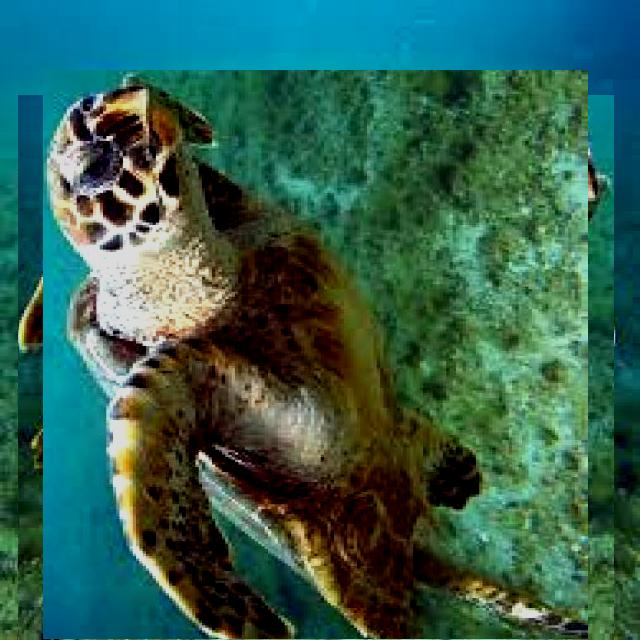Sea turtle: (30, 82, 601, 640)
